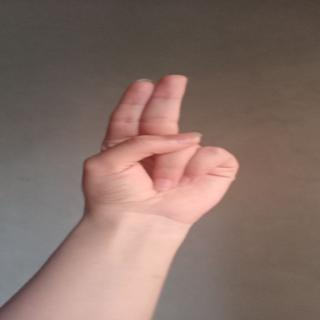TA: (63, 66, 274, 222)
